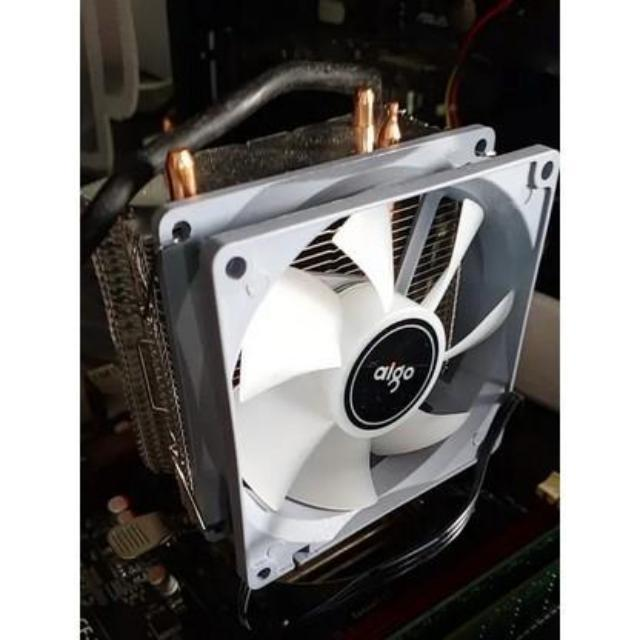CPU_Fan: (75, 62, 557, 614)
